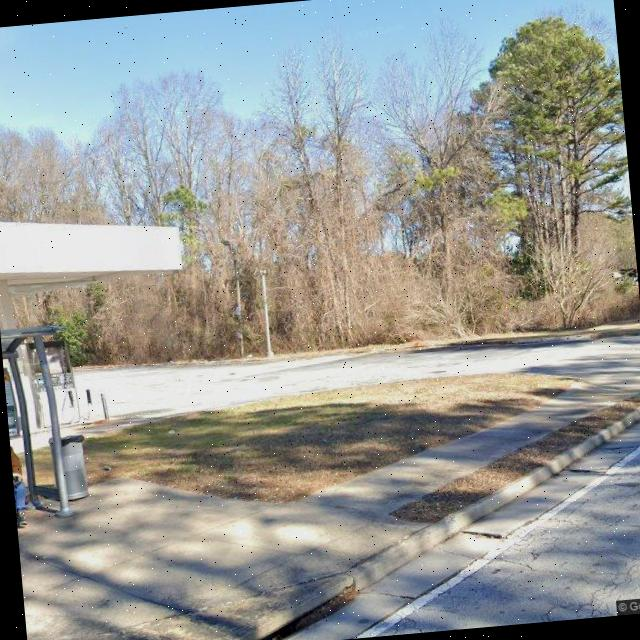shelter: (0, 319, 83, 538)
trash_can: (50, 432, 90, 502)
